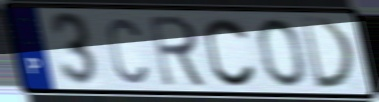3: (51, 9, 98, 89)
C: (203, 15, 259, 89), (105, 15, 150, 86)
D: (298, 16, 359, 92)
O: (256, 17, 309, 90)
R: (147, 13, 211, 90)
